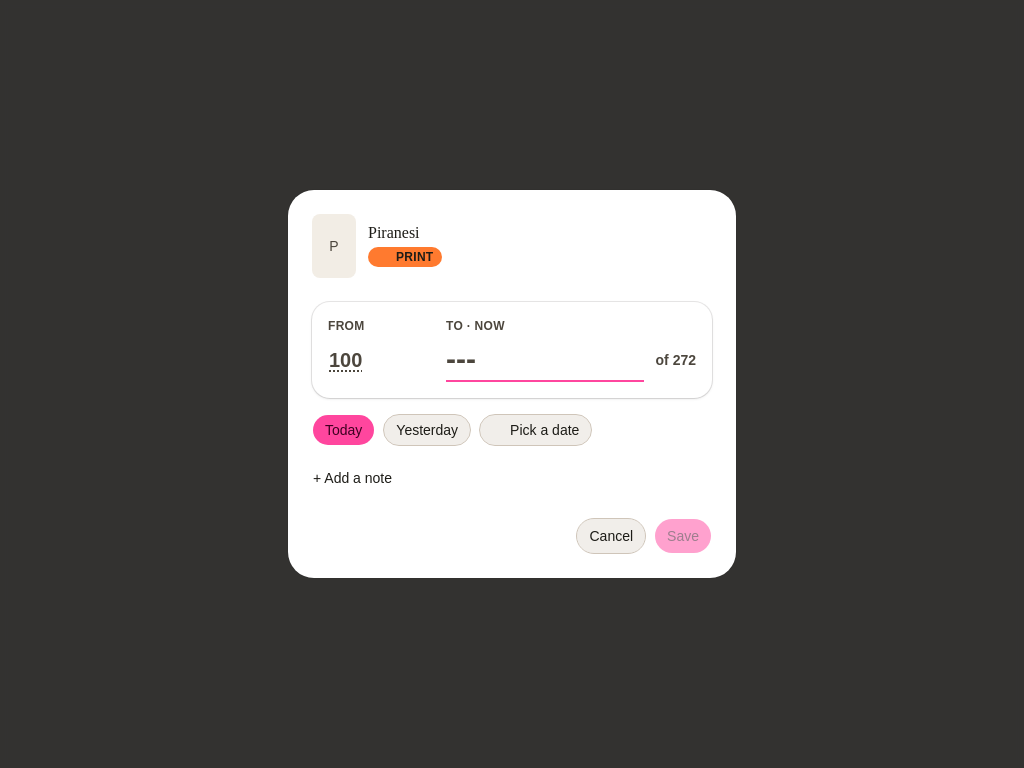
Test case: ProgressLogSheet › opens the start position for editing prefilled with where the read resumes
Click the button named "Edit start position".
click(346, 360)  # box [328,344,363,376]
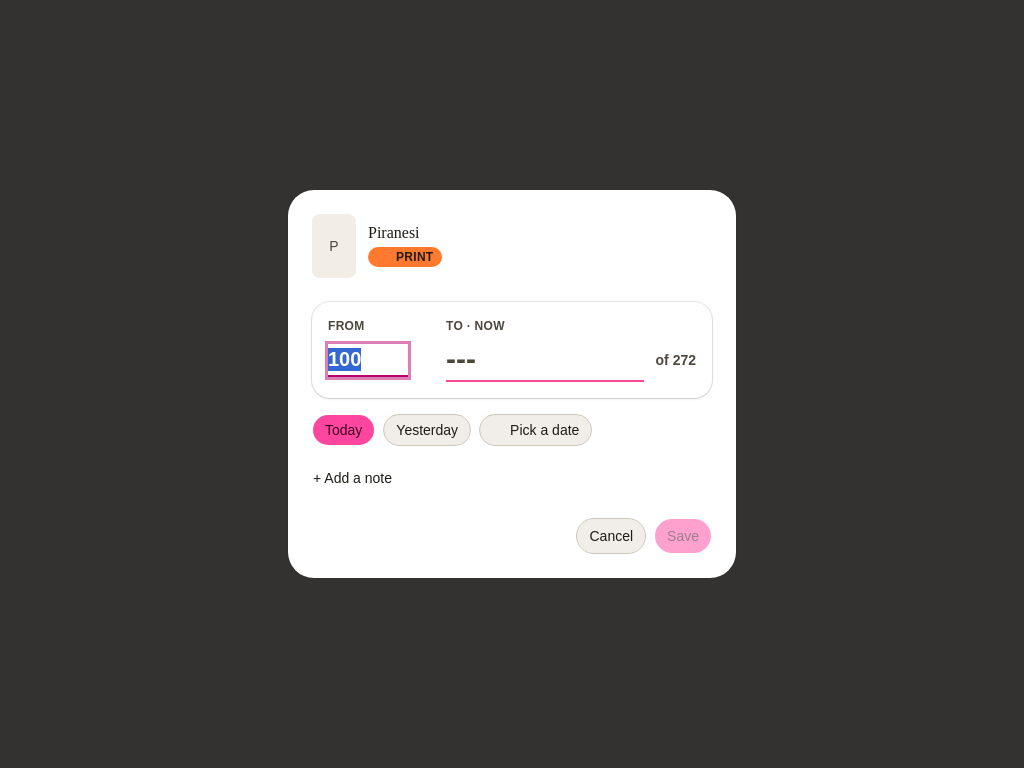
Now the field named "start position" holds "100", box [328,344,408,376]
